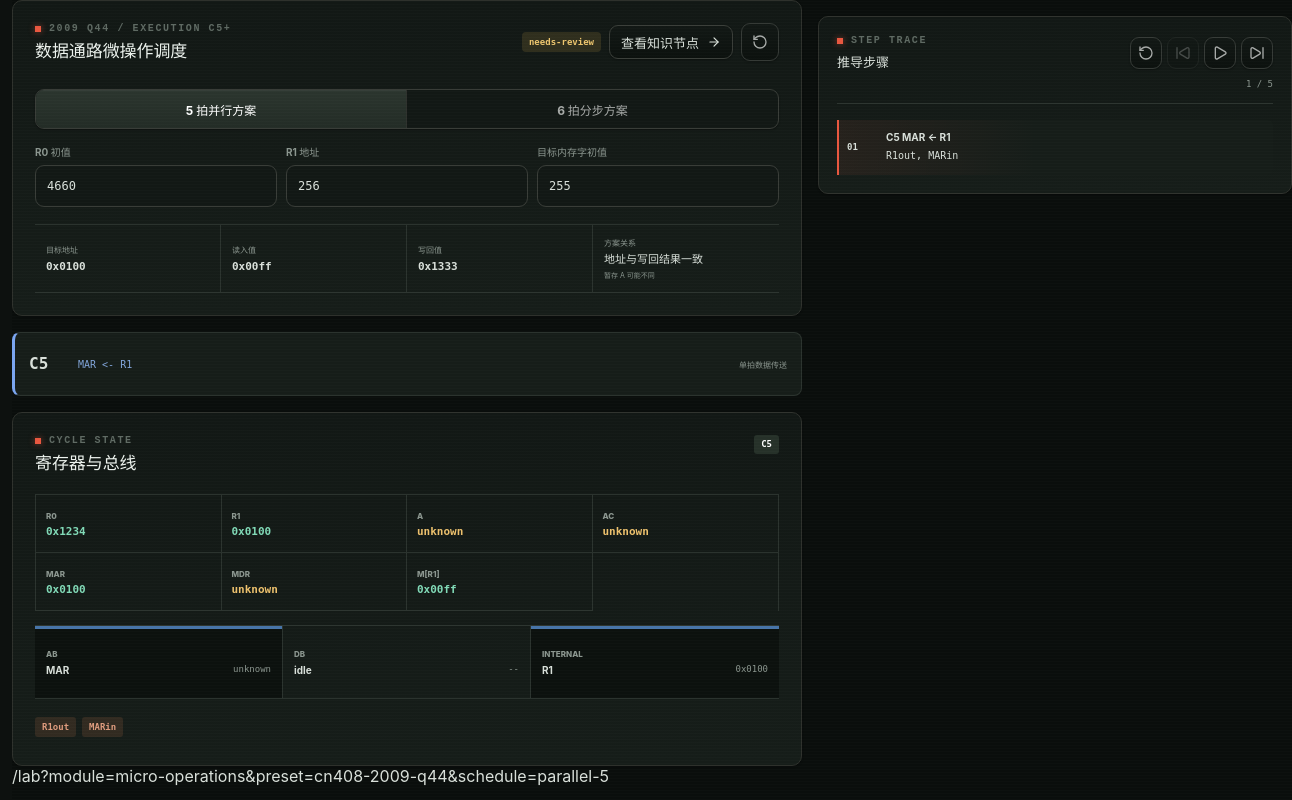
MicroOperationsLabPanel › shows the legal DB and internal-bus work together in parallel C6
The width and height of the screenshot is (1292, 800).
Click the button named "下一步" at (1257, 53), box [1241,37,1273,69]
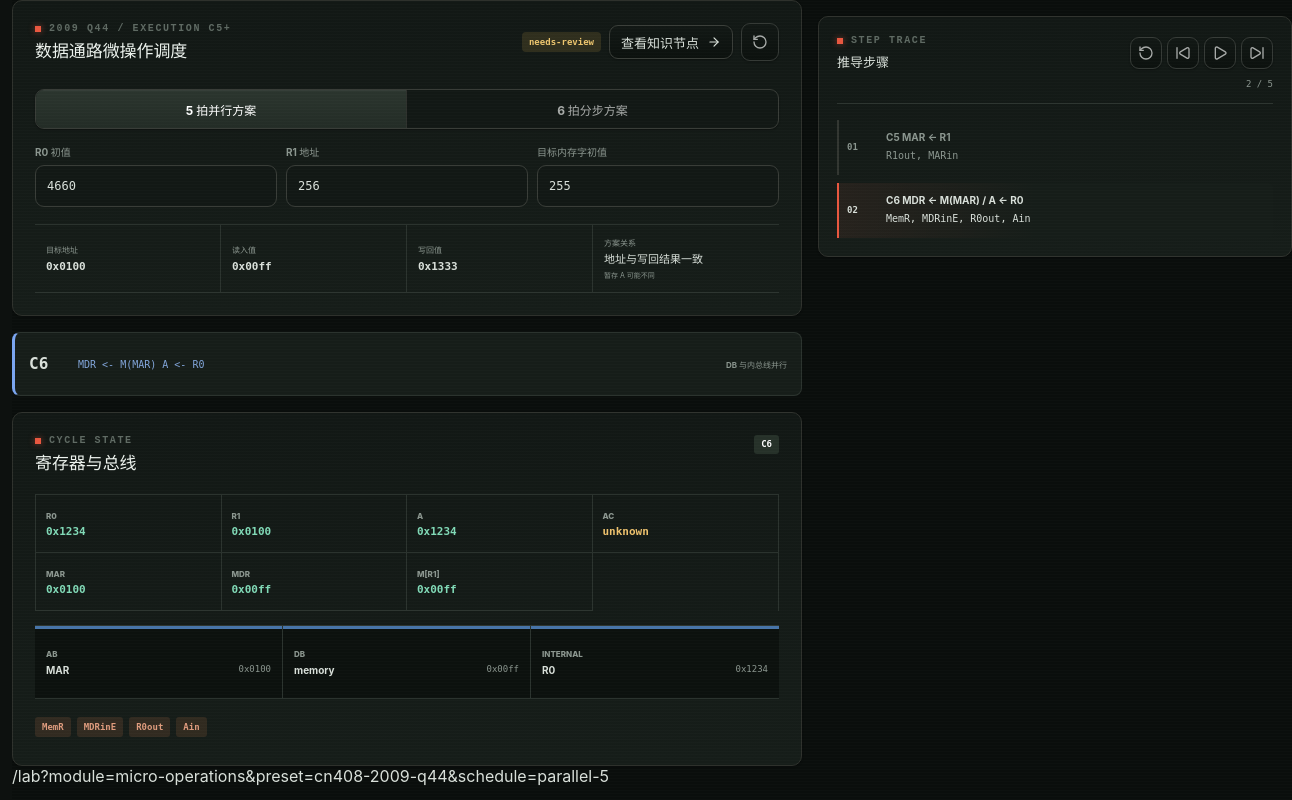
Expected: the element named "当前微操作" shows "C6", [12,332,802,396]
Expected: the element named "当前微操作" shows "MDR <- M(MAR)", [78,358,156,370]
Expected: the element named "当前微操作" shows "A <- R0", [162,358,204,370]
